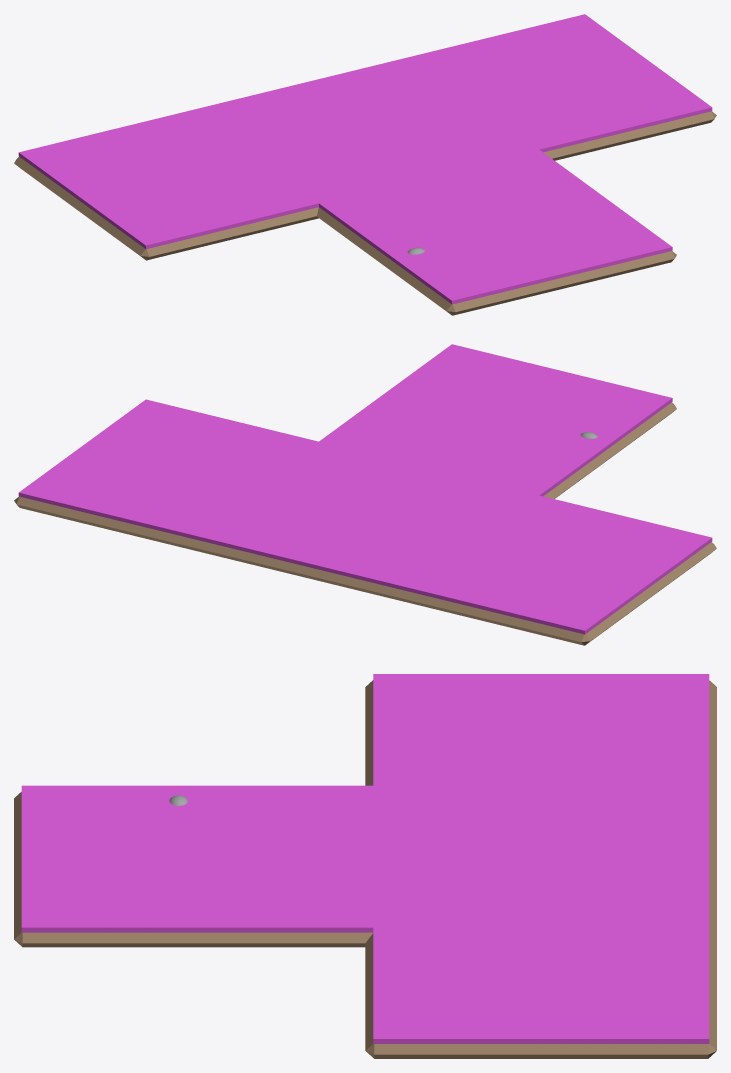
The model's file is forest_path_dirt_t_lod2_v1.glb.
The picture shows the model from 3 angles, top to bottom: view 1: azimuth 30°, elevation 25°; view 2: azimuth 150°, elevation 25°; view 3: azimuth 270°, elevation 25°; orthographic projection. The views are drawn at different scales.
Visible parts, largest first — view 1: NAV_MASK_FOREST_PATH_DIRT_T_BAR, NAV_MASK_FOREST_PATH_DIRT_T_STEM, LOD2_FOREST_PATH_DIRT_T_Bar, LOD2_FOREST_PATH_DIRT_T_Stem; view 2: NAV_MASK_FOREST_PATH_DIRT_T_BAR, NAV_MASK_FOREST_PATH_DIRT_T_STEM, LOD2_FOREST_PATH_DIRT_T_Bar, LOD2_FOREST_PATH_DIRT_T_Stem; view 3: NAV_MASK_FOREST_PATH_DIRT_T_BAR, NAV_MASK_FOREST_PATH_DIRT_T_STEM, LOD2_FOREST_PATH_DIRT_T_Bar, LOD2_FOREST_PATH_DIRT_T_Stem.
Boxes of the visible parts, bbox=[...] form: NAV_MASK_FOREST_PATH_DIRT_T_BAR: bbox=[18, 14, 712, 249]; NAV_MASK_FOREST_PATH_DIRT_T_STEM: bbox=[258, 106, 672, 304]; LOD2_FOREST_PATH_DIRT_T_Bar: bbox=[14, 111, 716, 260]; LOD2_FOREST_PATH_DIRT_T_Stem: bbox=[317, 207, 676, 315]; NAV_MASK_FOREST_PATH_DIRT_T_BAR: bbox=[18, 399, 712, 634]; NAV_MASK_FOREST_PATH_DIRT_T_STEM: bbox=[258, 344, 672, 539]; LOD2_FOREST_PATH_DIRT_T_Bar: bbox=[14, 496, 716, 645]; LOD2_FOREST_PATH_DIRT_T_Stem: bbox=[543, 402, 676, 498]; NAV_MASK_FOREST_PATH_DIRT_T_BAR: bbox=[373, 674, 709, 1043]; NAV_MASK_FOREST_PATH_DIRT_T_STEM: bbox=[21, 785, 533, 932]; LOD2_FOREST_PATH_DIRT_T_Bar: bbox=[365, 680, 716, 1058]; LOD2_FOREST_PATH_DIRT_T_Stem: bbox=[14, 792, 372, 947].
Size of what is drawn, in the model's own units: 8 by 0.24 by 6.4.
